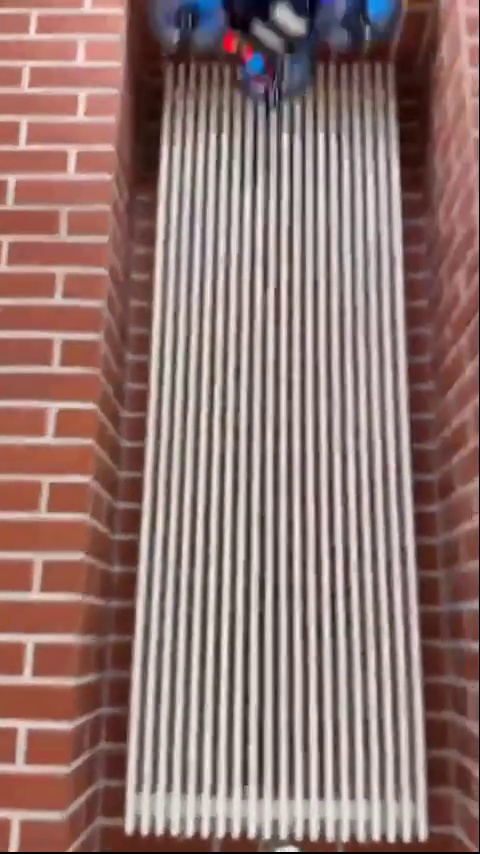drone: (155, 4, 414, 102)
